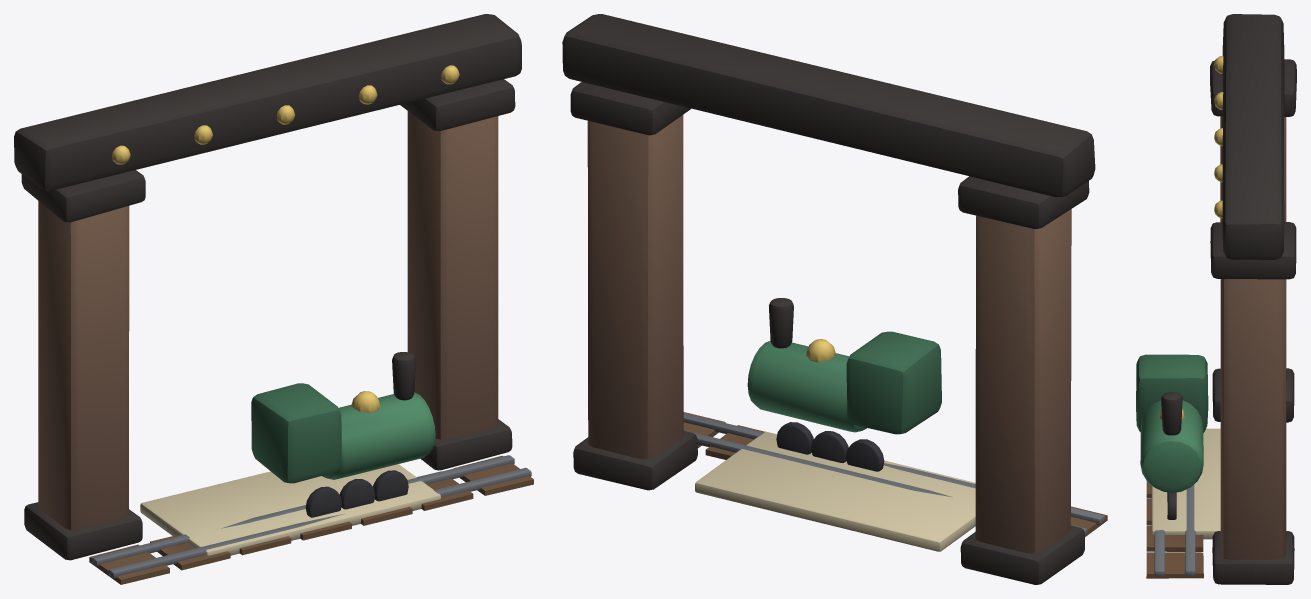
3 views of the same model, side by side, from view 1: azimuth 30°, elevation 25°; view 2: azimuth 150°, elevation 25°; view 3: azimuth 270°, elevation 25° (orthographic). The views are drawn at different scales.
Parts seen in each view (by area): view 1: gate_1c01aae9; view 2: gate_1c01aae9; view 3: gate_1c01aae9.
Boxes of the visible parts, x1,y1,x2,y2 form: gate_1c01aae9: (14,14,533,584); gate_1c01aae9: (562,14,1107,584); gate_1c01aae9: (1136,14,1296,584).
Bounding box in the file's own units: 4.93 × 4.05 × 1.58.
